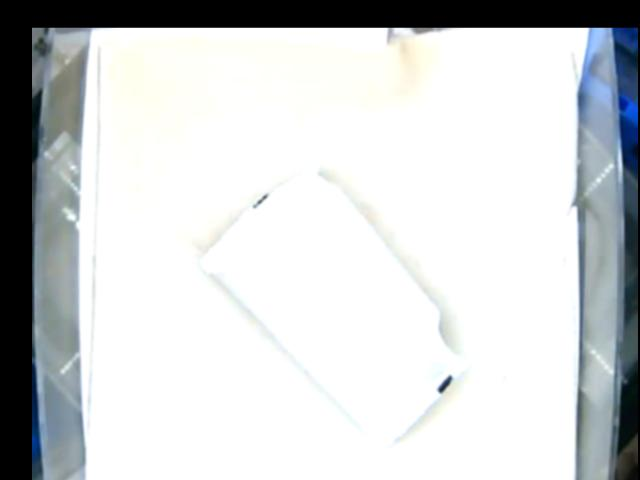Medicine: (206, 164, 469, 447)
